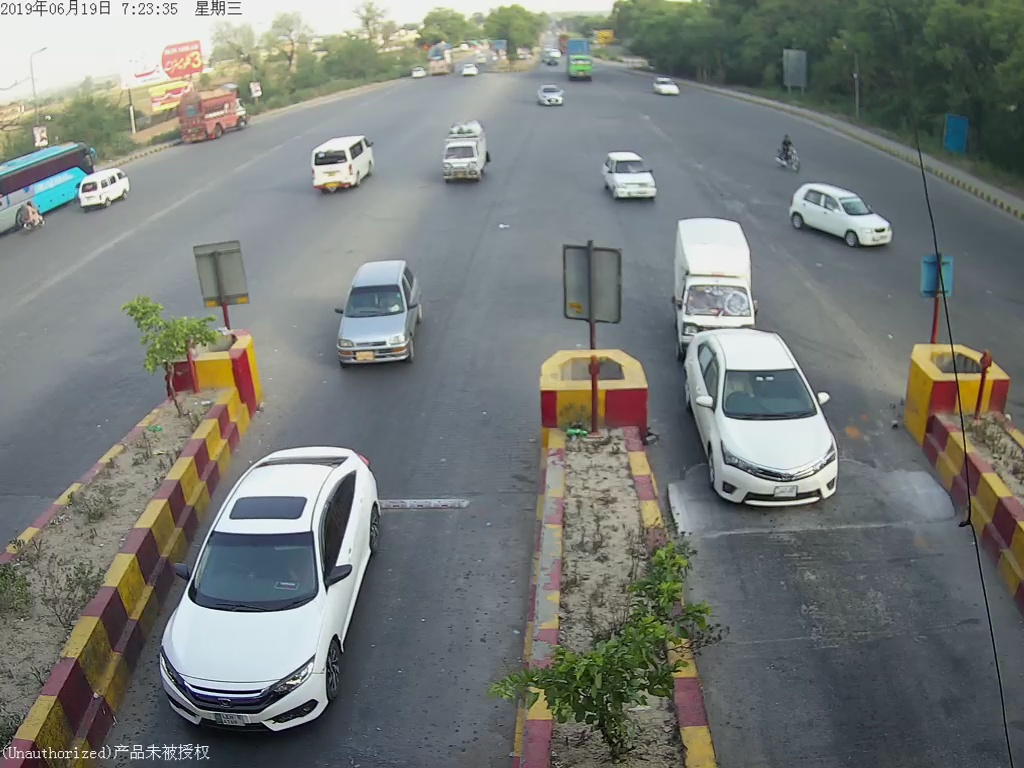Cat-1: (160, 452, 388, 733), (683, 328, 846, 522), (662, 222, 769, 328), (336, 257, 426, 372), (595, 143, 662, 212), (433, 121, 490, 191)
